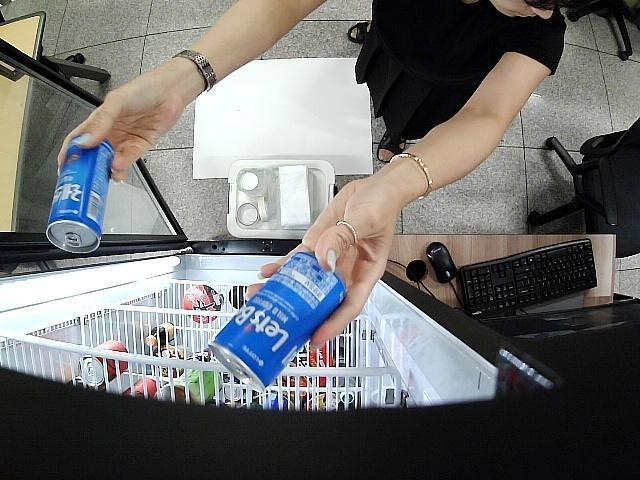15_letsbe: (206, 249, 350, 394), (46, 134, 114, 255)
